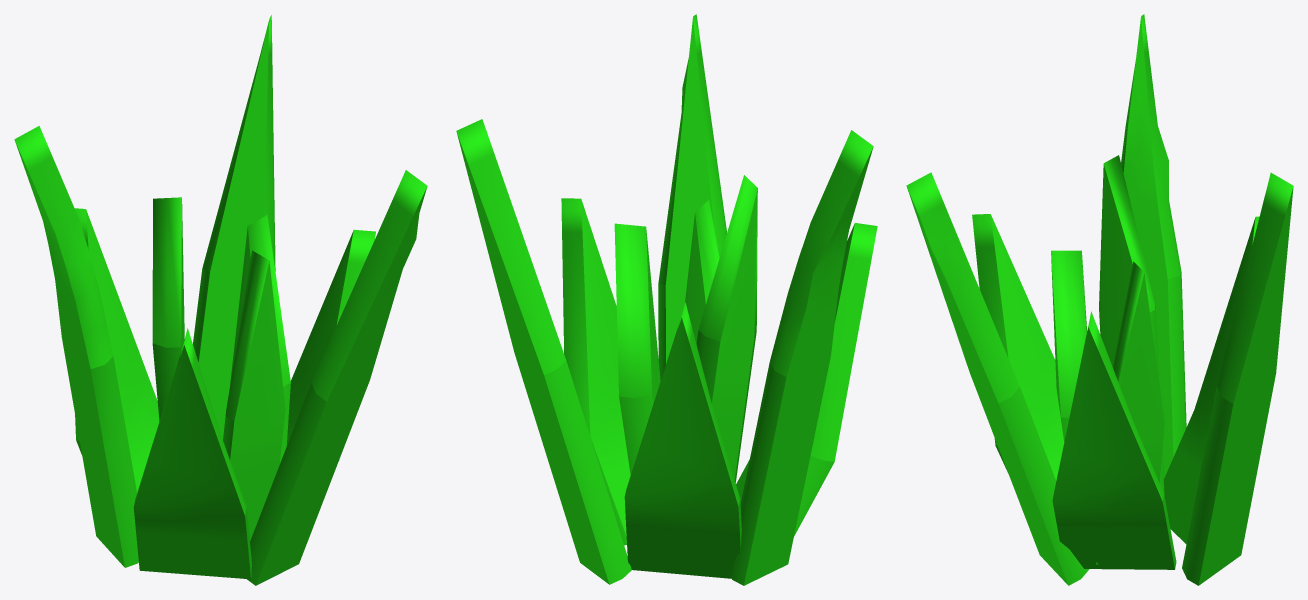
The model's file is Aloe.fbx.
The picture shows the model from 3 angles, left to right: view 1: azimuth 30°, elevation 25°; view 2: azimuth 150°, elevation 25°; view 3: azimuth 270°, elevation 25°; orthographic projection. The views are drawn at different scales.
Visible parts, largest first — view 1: Box001, Box002, Box011, Box003, Box005; view 2: Box001, Box002, Box003, Box005, Box011; view 3: Box001, Box002, Box003, Box005, Box011.
Boxes of the visible parts, x1,y1,x2,y2 form: Box001: [14, 15, 427, 585]; Box002: [75, 208, 375, 579]; Box011: [223, 250, 285, 540]; Box003: [152, 197, 184, 421]; Box005: [230, 215, 290, 464]; Box001: [456, 14, 873, 585]; Box002: [561, 198, 877, 578]; Box003: [696, 175, 757, 482]; Box005: [614, 223, 660, 474]; Box011: [685, 200, 719, 343]; Box001: [906, 14, 1293, 585]; Box002: [972, 214, 1259, 569]; Box003: [1099, 155, 1164, 495]; Box005: [1096, 261, 1164, 564]; Box011: [1051, 250, 1087, 441].
Size of the model in its own units: 50.03 by 66.81 by 50.77.
